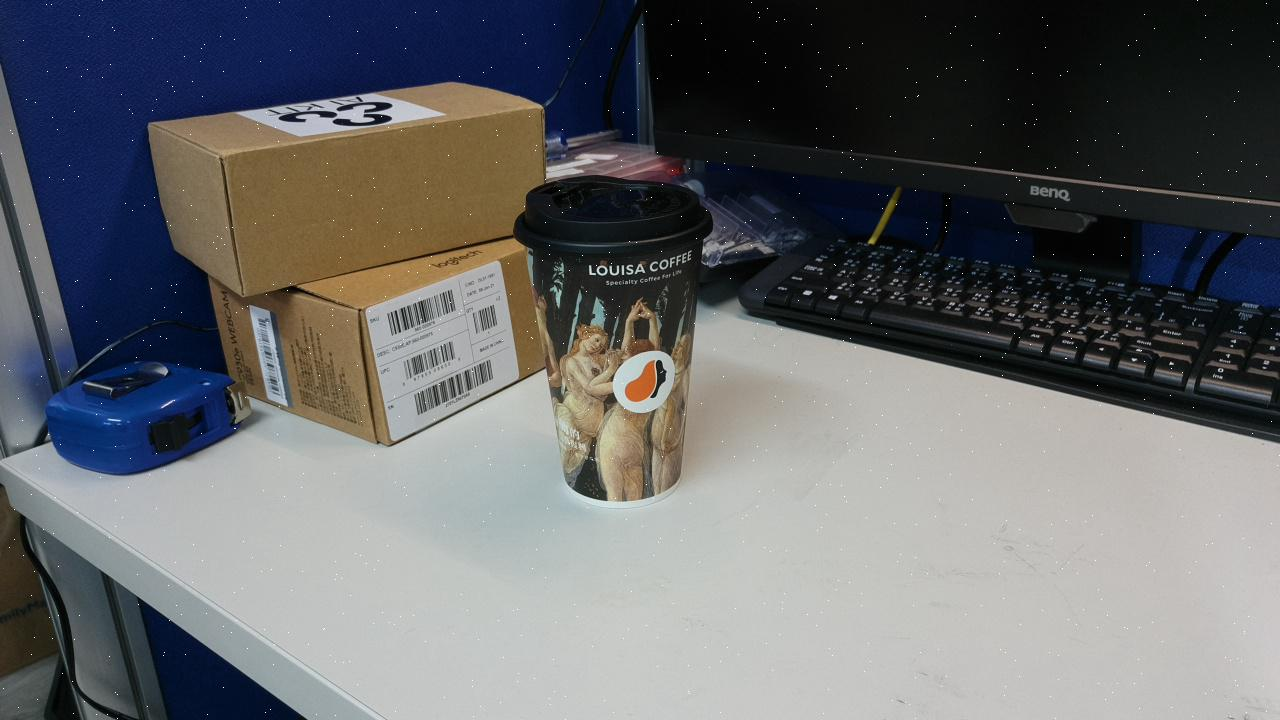columnar: (377, 44, 534, 407)
